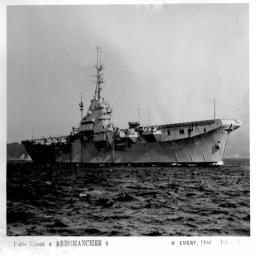Portanaves: (20, 36, 242, 167)
